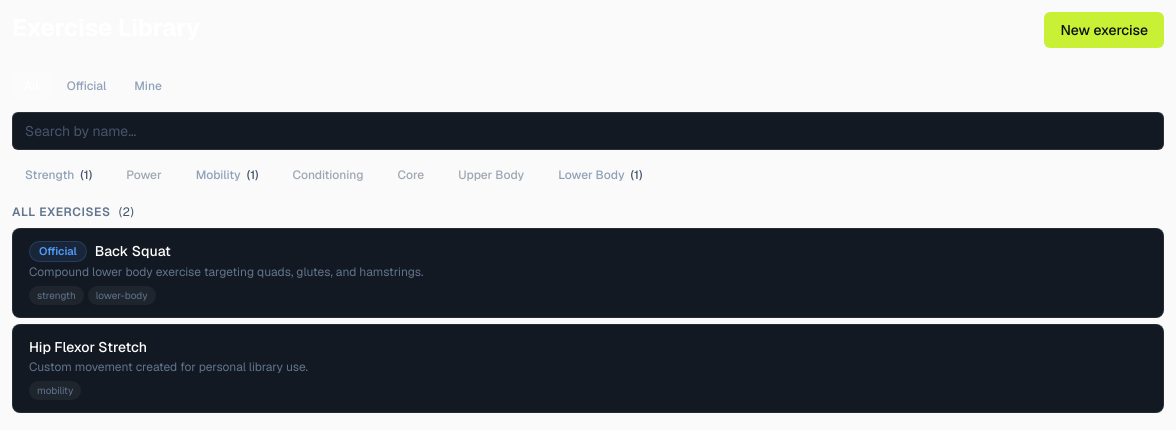
ExercisesPage — filter chips › filters exercises when a chip is activated
Expected: the text "Back Squat" is shown, [95,241,171,261]
Step 1. Click the button "Mobility(1)" → (227,175), box [183,162,271,188]
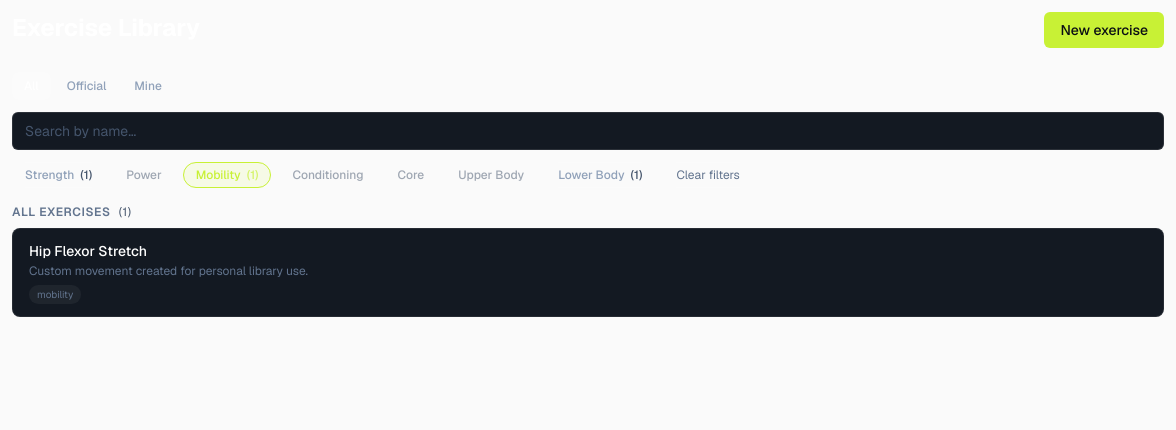
Expected: the text "Hip Flexor Stretch" is shown, [29,241,147,261]
Now the text "Back Squat" is gone
